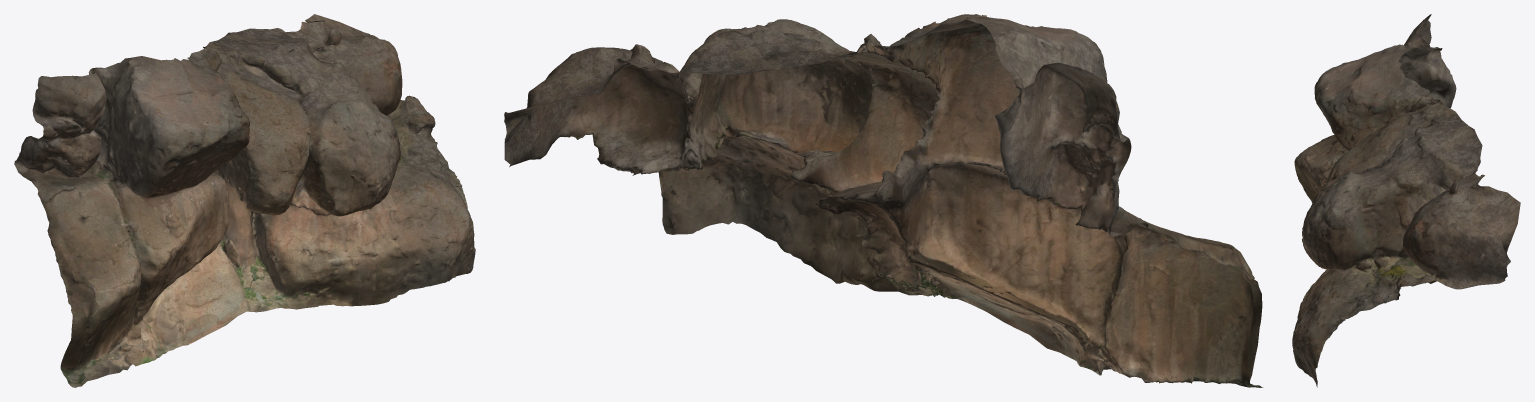
The model's file is namaqualand_cliff_01.glb.
The picture shows the model from 3 angles, left to right: view 1: azimuth 30°, elevation 25°; view 2: azimuth 150°, elevation 25°; view 3: azimuth 270°, elevation 25°; orthographic projection. The views are drawn at different scales.
Visible parts, largest first — view 1: drone_rock_01; view 2: drone_rock_01; view 3: drone_rock_01.
Boxes of the visible parts, left/top/right/bottom form: drone_rock_01: left=14, top=14, right=475, bottom=387; drone_rock_01: left=504, top=14, right=1263, bottom=387; drone_rock_01: left=1292, top=14, right=1520, bottom=387.
Size of the model in its own units: 8.28 by 4.96 by 4.39.
1 material, 1 textured.
